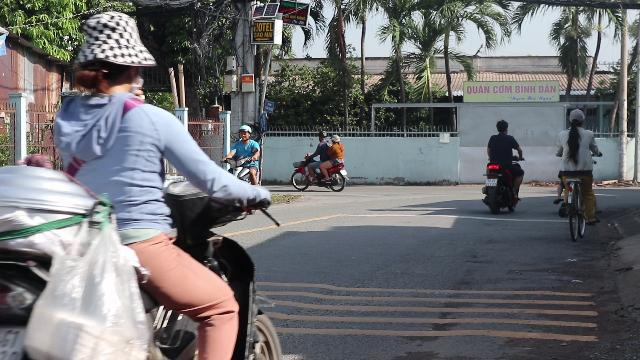motorcyclist: (0, 1, 286, 356)
nohelmet: (69, 3, 155, 99)
